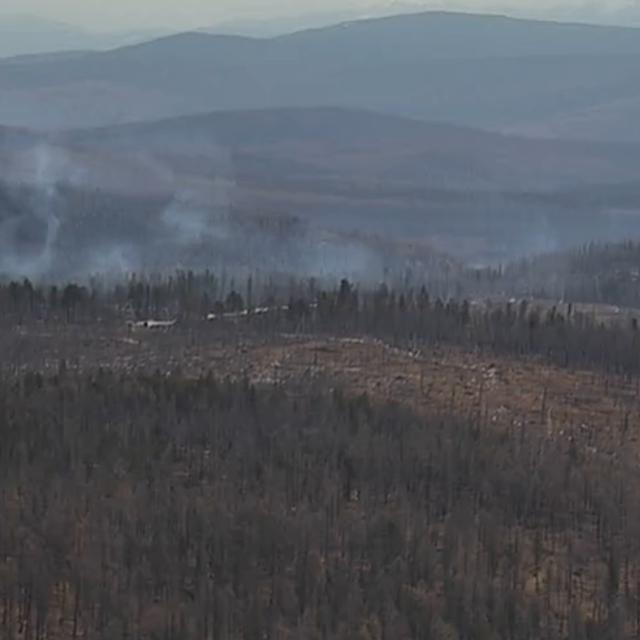Smoke: (0, 124, 396, 294)
